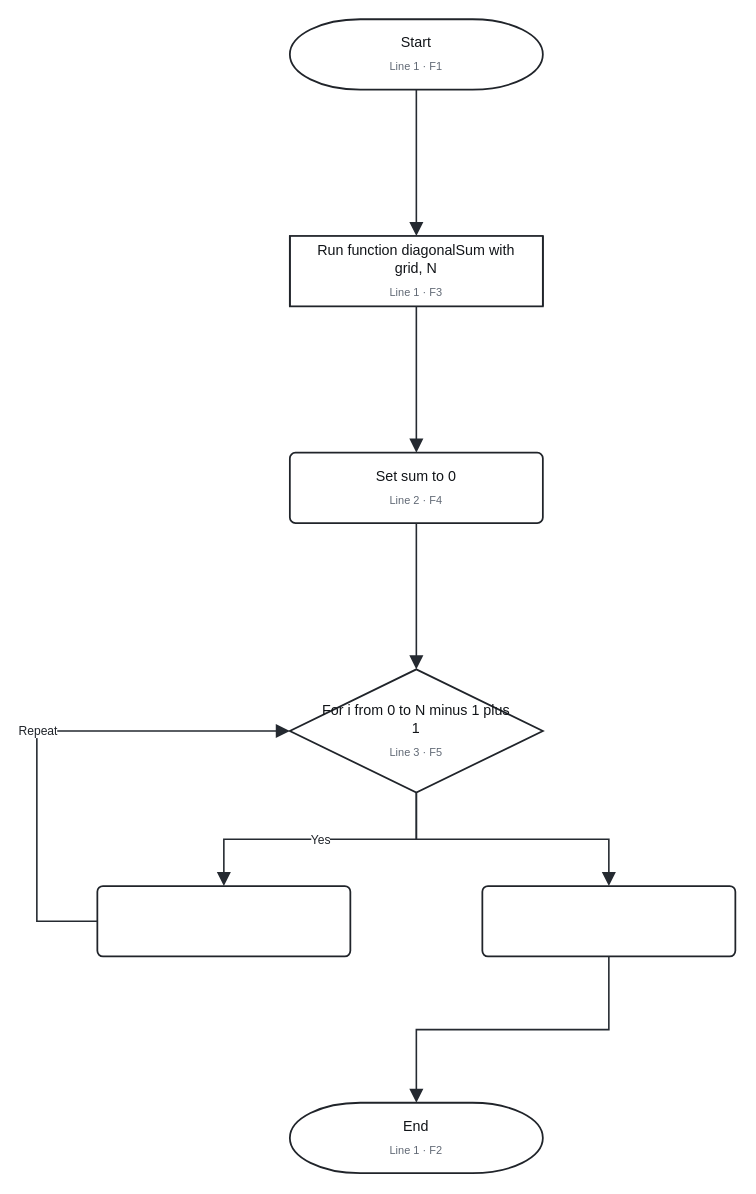
This 756x1194 diagram has some shape labels left out. The shapes that lost their labels are listed below. From the top down, each one's centre as x and y in pixels, then its label:
(223,921): Set sum to sum plus item i of item i of grid Line 4 · F6
(608,921): Return sum Line 6 · F7
